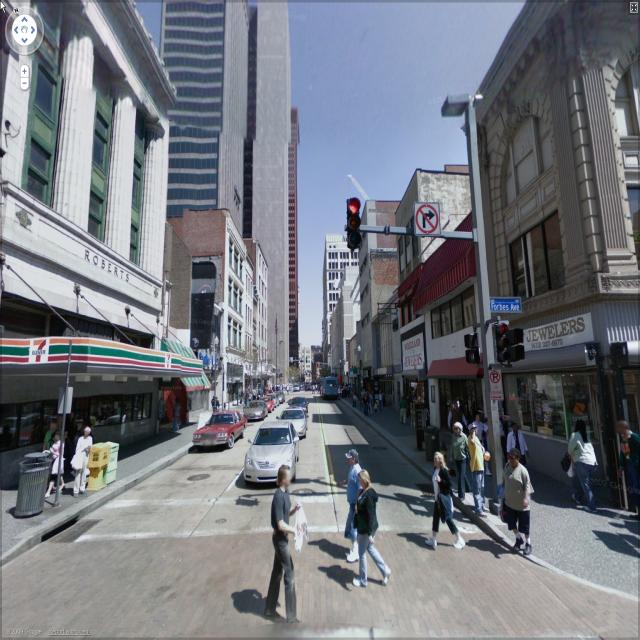b_1: (476, 6, 640, 512), (9, 1, 155, 365), (161, 2, 287, 242), (412, 244, 494, 446), (178, 219, 252, 405), (283, 103, 301, 378), (242, 243, 268, 408), (322, 230, 348, 305)
